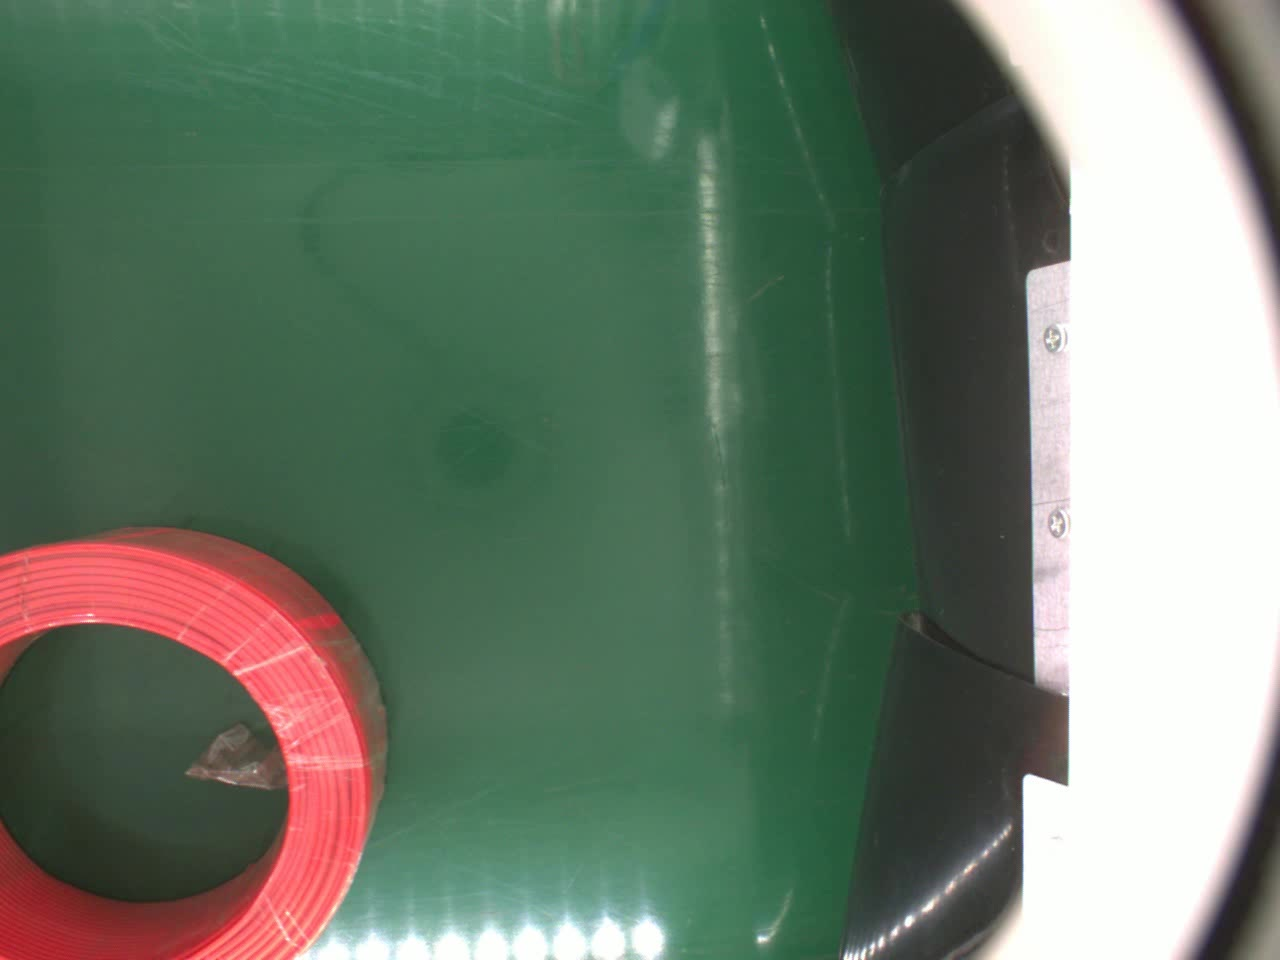red: (0, 524, 391, 960)
